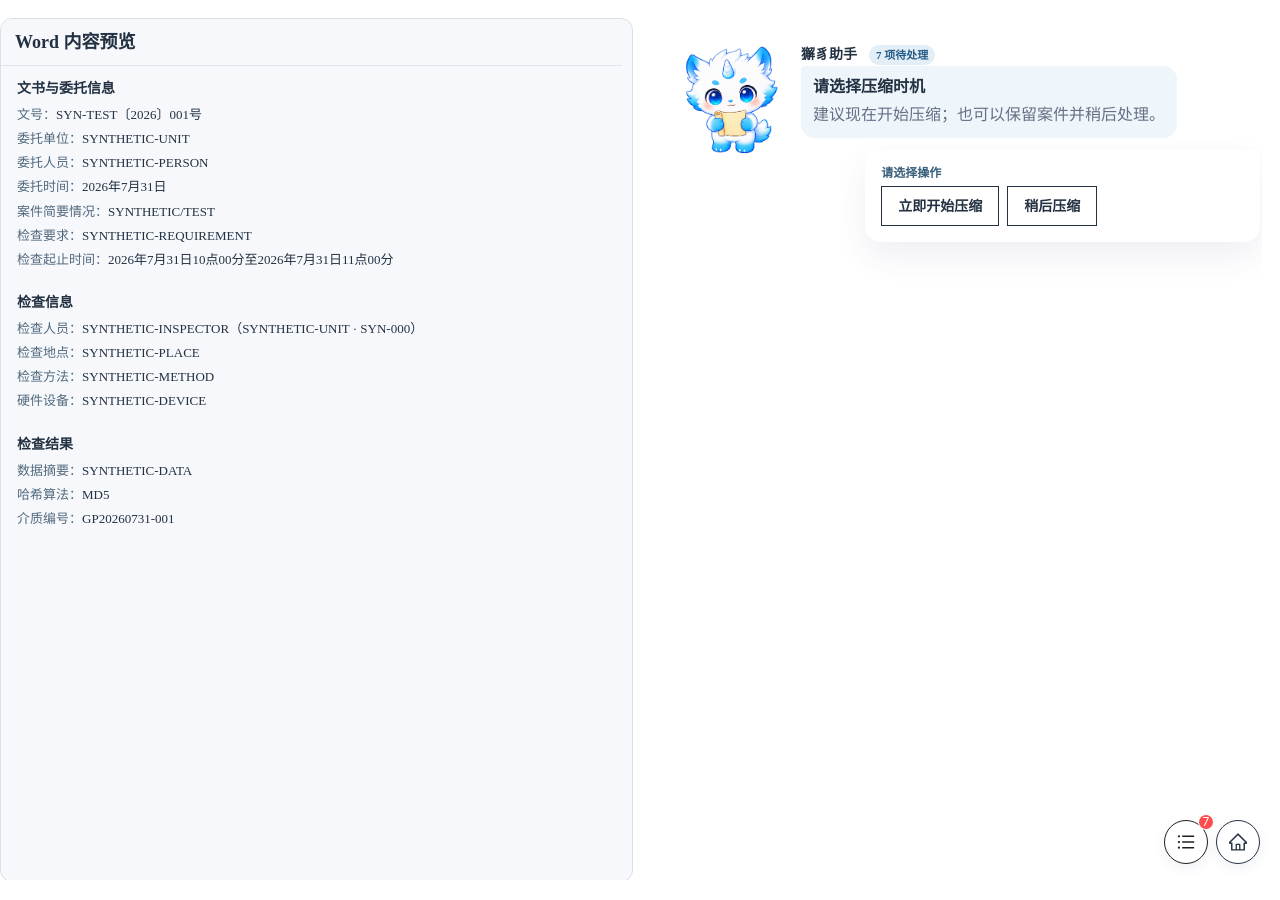
CaseRecordGeneratePage archive decision coordination › keeps the guided conversation open with only quick batch evidence supplementation
The width and height of the screenshot is (1280, 900).
Click the button named "查看已填内容与待办" at (1186, 842), box [1164,820,1208,864]
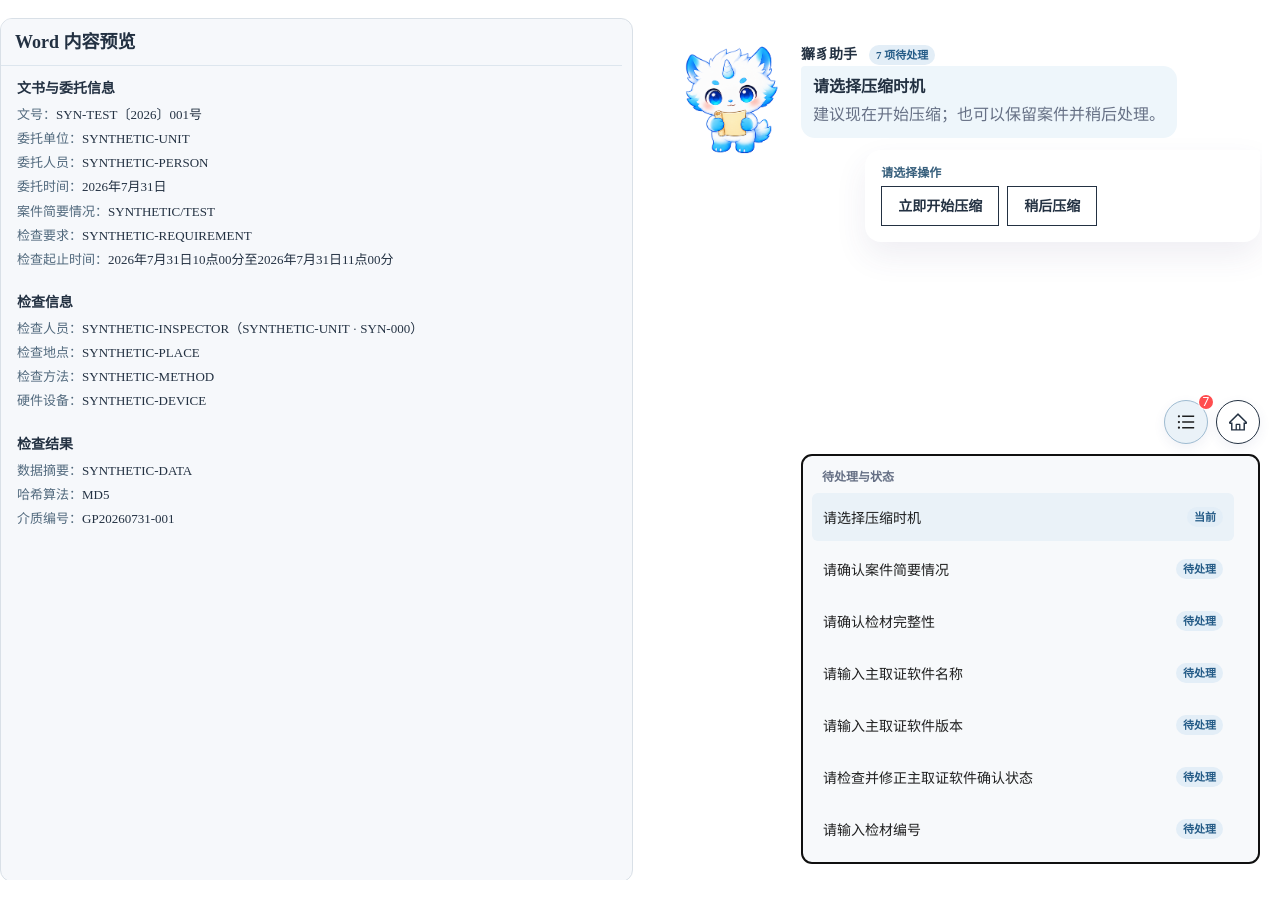
Click the button "请确认检材完整性 待处理" at (879, 622), box [812,597,1234,645]
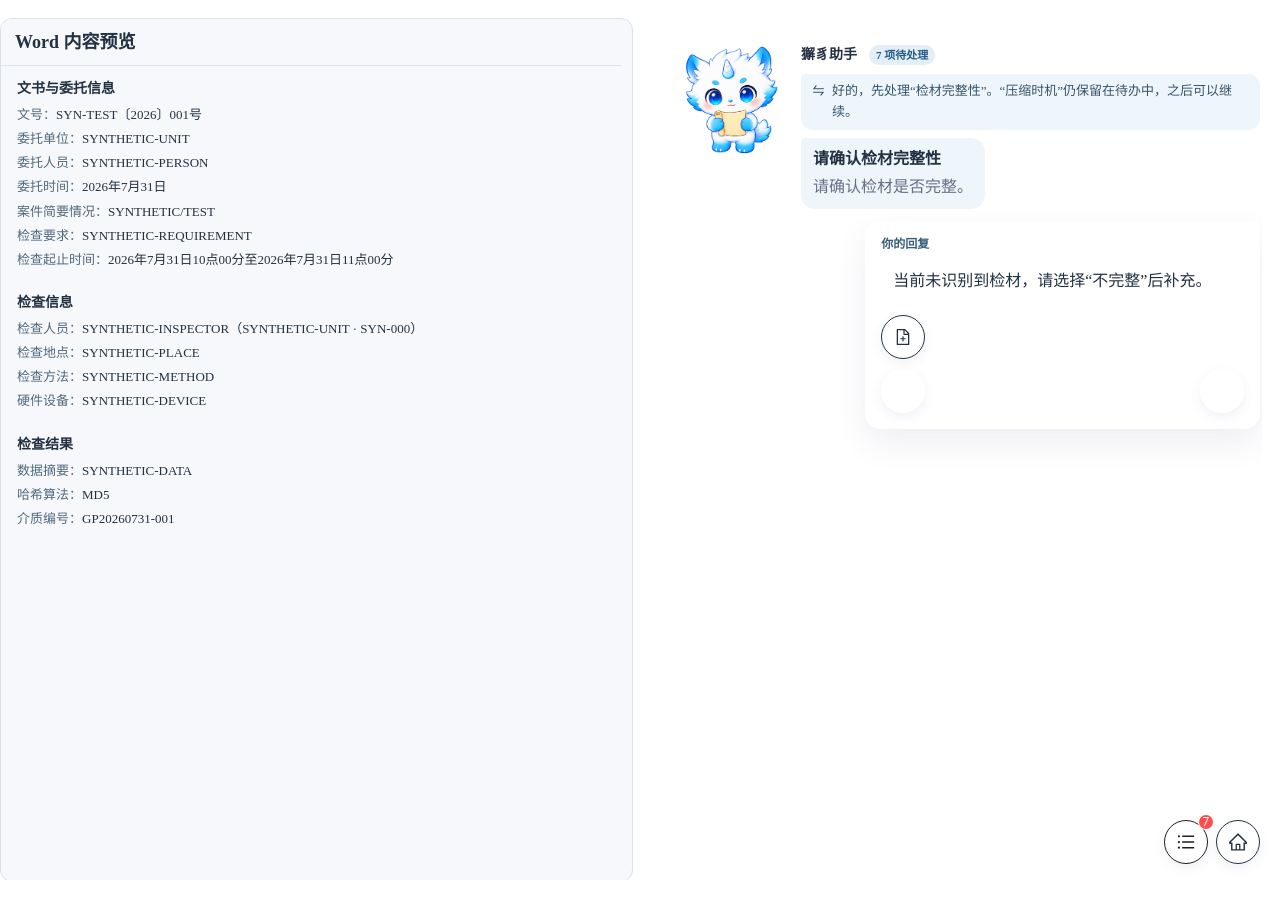
Result: the picture named "file-add" is shown at [895,329,911,345]
Click the button named "检材信息不完整，手工添加检材" at (903, 337), box [881,315,925,359]
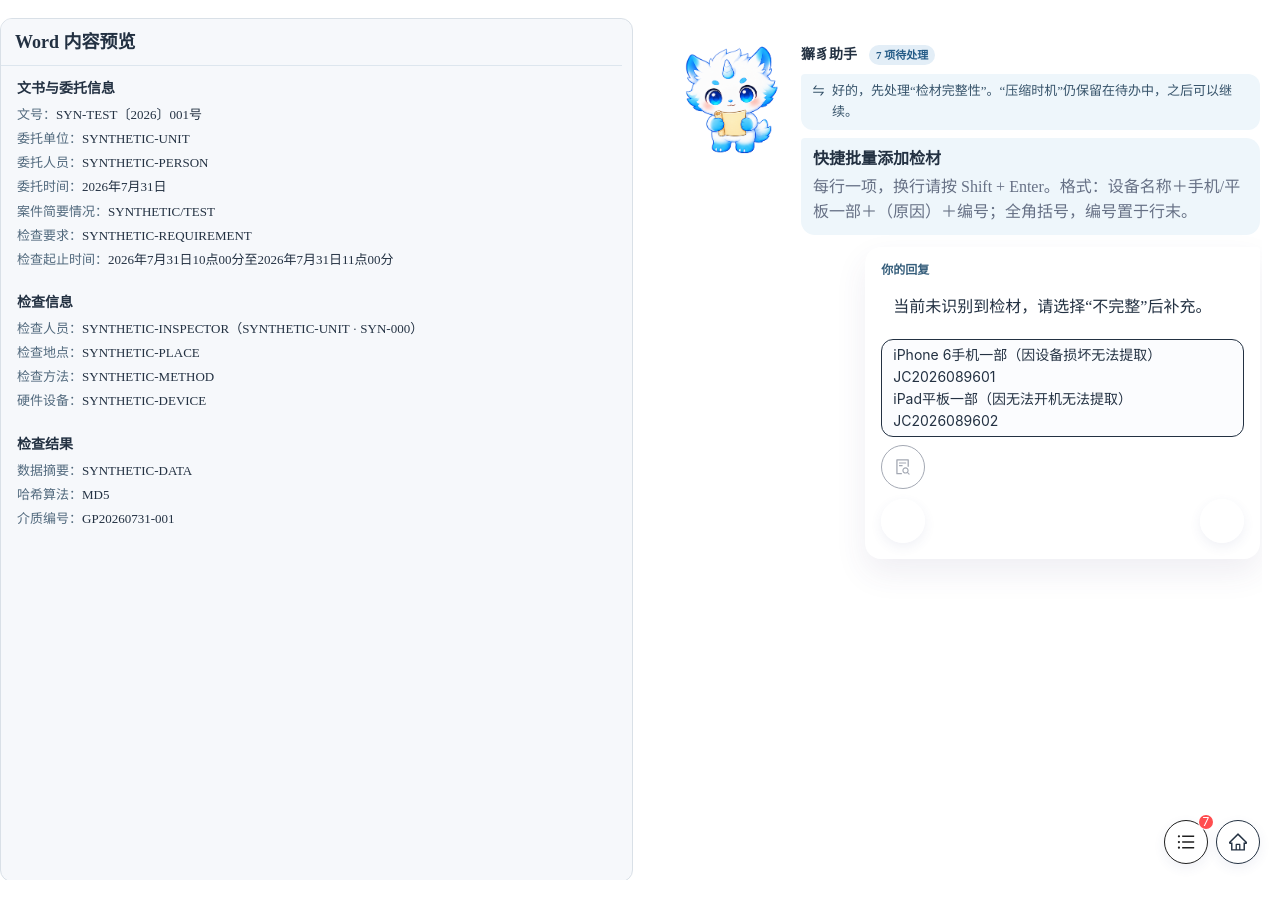
Expected: the element named "当前对话" is shown, [647,18,1279,880]
Result: the message named "獬豸助手提示" shows "快捷批量添加检材" at [813,150,941,167]
Result: the message named "獬豸助手提示" shows "每行一项，换行请按 Shift + Enter。" at [813,178,1240,220]
